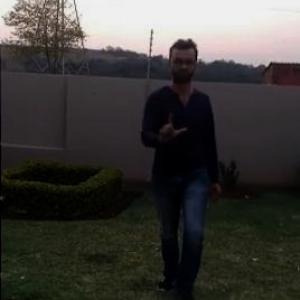land_hand: (154, 108, 190, 146)
